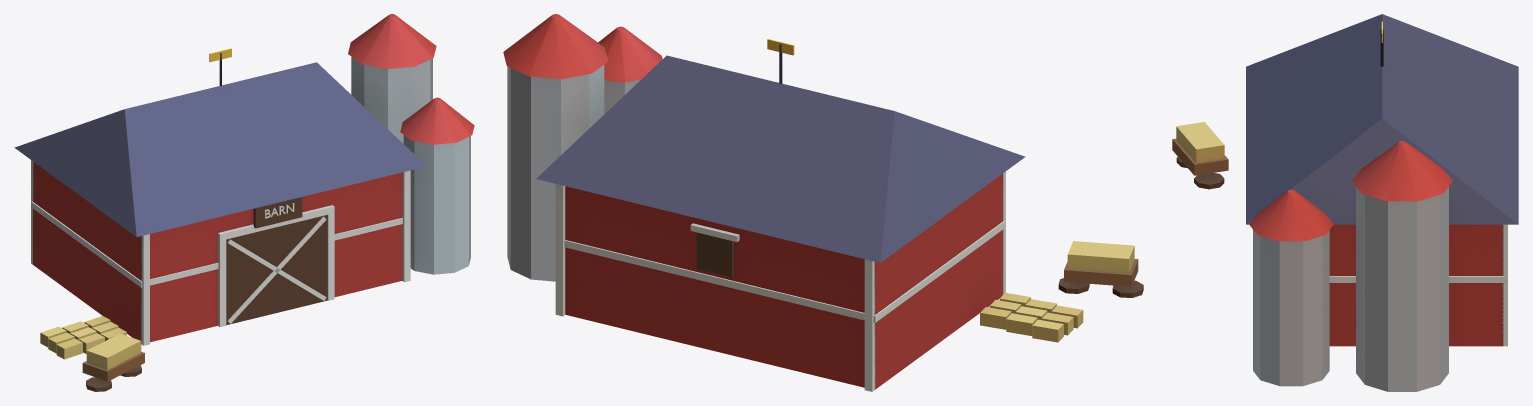
The model's file is home_barn_3.fbx.
3 renders of one model, left to right at view 1: azimuth 30°, elevation 25°; view 2: azimuth 150°, elevation 25°; view 3: azimuth 270°, elevation 25°, orthographic. The views are drawn at different scales.
Parts seen in each view (by area): view 1: home_barn_3_body; view 2: home_barn_3_body; view 3: home_barn_3_body.
Part boxes in pixels (left/top/right/bottom): home_barn_3_body: left=14, top=14, right=474, bottom=391; home_barn_3_body: left=503, top=14, right=1143, bottom=391; home_barn_3_body: left=1172, top=14, right=1518, bottom=391.
Bounding box in the file's own units: 5566 × 2703 × 3429.
1 material, 1 textured.
